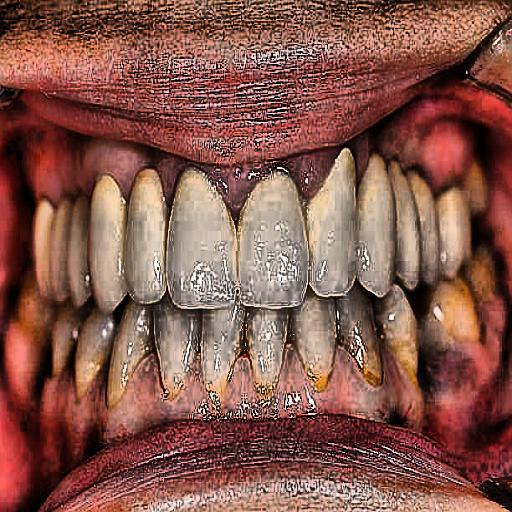Calculus: (30, 101, 485, 426)
